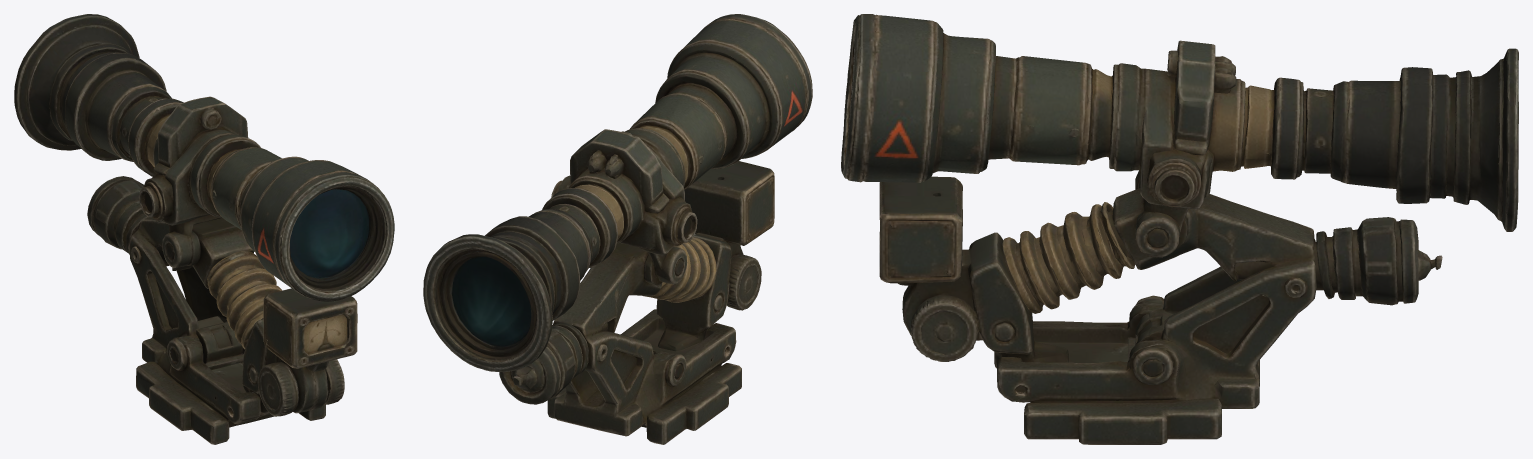
Rendered from scope_sentinel.high.glb.
3 views of the same model, side by side, from view 1: azimuth 30°, elevation 25°; view 2: azimuth 150°, elevation 25°; view 3: azimuth 270°, elevation 25° (orthographic). The views are drawn at different scales.
Visible parts, largest first — view 1: model; view 2: model; view 3: model.
Boxes of the visible parts, bbox=[...] form: model: bbox=[14, 14, 394, 444]; model: bbox=[423, 14, 812, 444]; model: bbox=[841, 14, 1518, 444].
Bounding box in the file's own units: 0.0856 × 0.1871 × 0.3001.
Materials: 1 (1 with a texture image).
